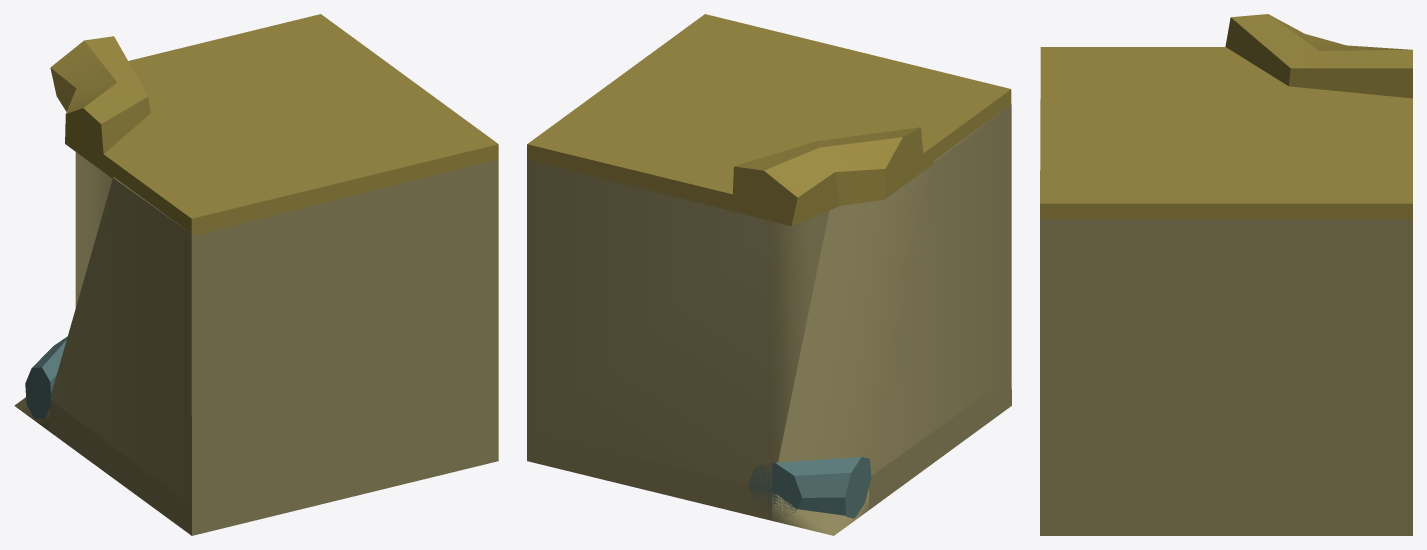
The model's file is Int_13_Wall_Cross_connector__26.fbx.
The picture shows the model from 3 angles, left to right: view 1: azimuth 30°, elevation 25°; view 2: azimuth 150°, elevation 25°; view 3: azimuth 270°, elevation 25°; orthographic projection. The views are drawn at different scales.
Visible parts, largest first — view 1: Int_13_Wall_Cross_connector__26; view 2: Int_13_Wall_Cross_connector__26; view 3: Int_13_Wall_Cross_connector__26.
Boxes of the visible parts, x1,y1,x2,y2 form: Int_13_Wall_Cross_connector__26: (14, 14, 498, 535); Int_13_Wall_Cross_connector__26: (527, 14, 1011, 535); Int_13_Wall_Cross_connector__26: (1040, 14, 1412, 535).
Size of the model in its own units: 0.9977 by 1.08 by 0.9986.
